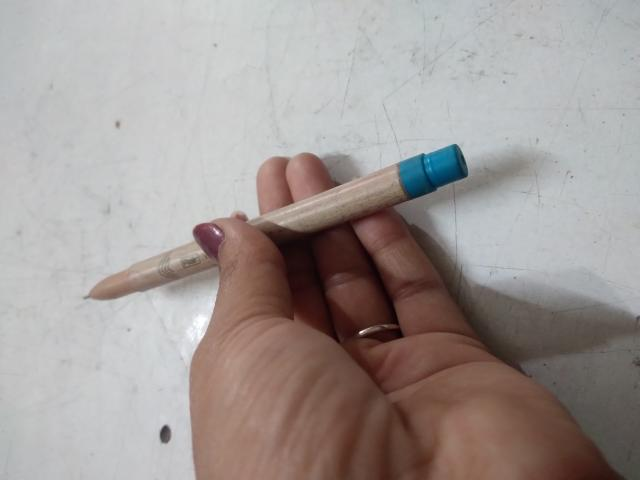PEN: (141, 51, 341, 478)
